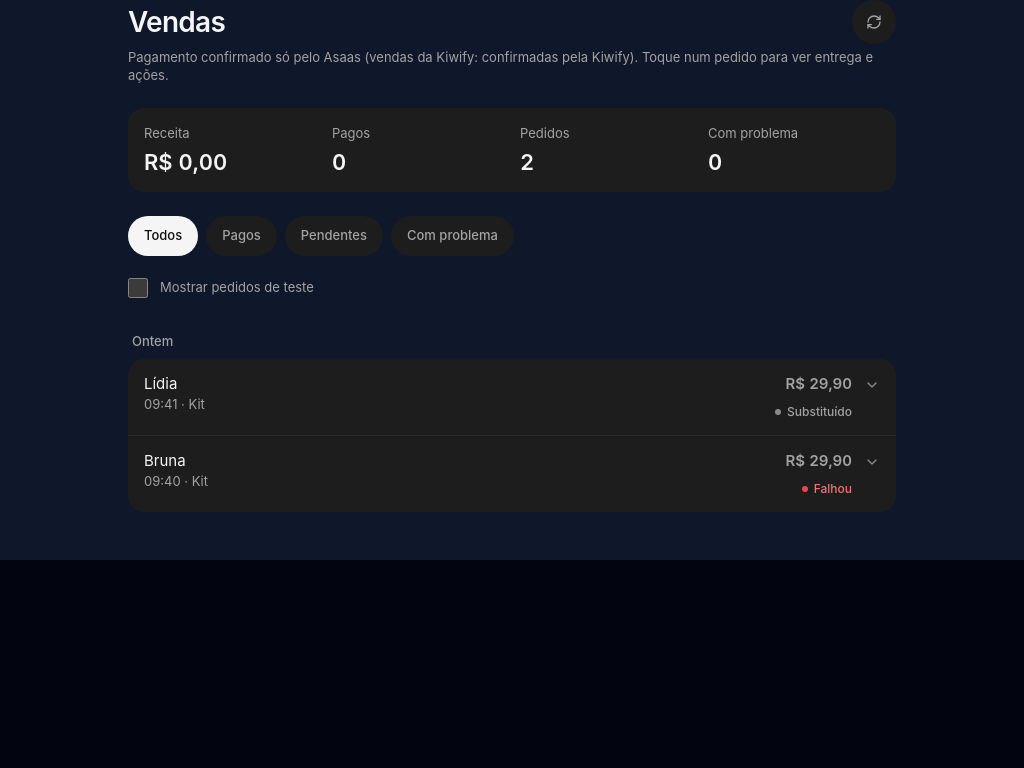
Scenario: NORQVA-0148 — Vendas › mostra "Substituído" e o motivo da falha no detalhe
Expected: the text "Lídia" is shown, [144,374,177,393]
What coordinates should you click on to do the following:
click the button "Lídia 09:41 · Kit R$ 29,90 Substituído"
I would click on:
 (161, 384)
Its box is [128,359,896,435].
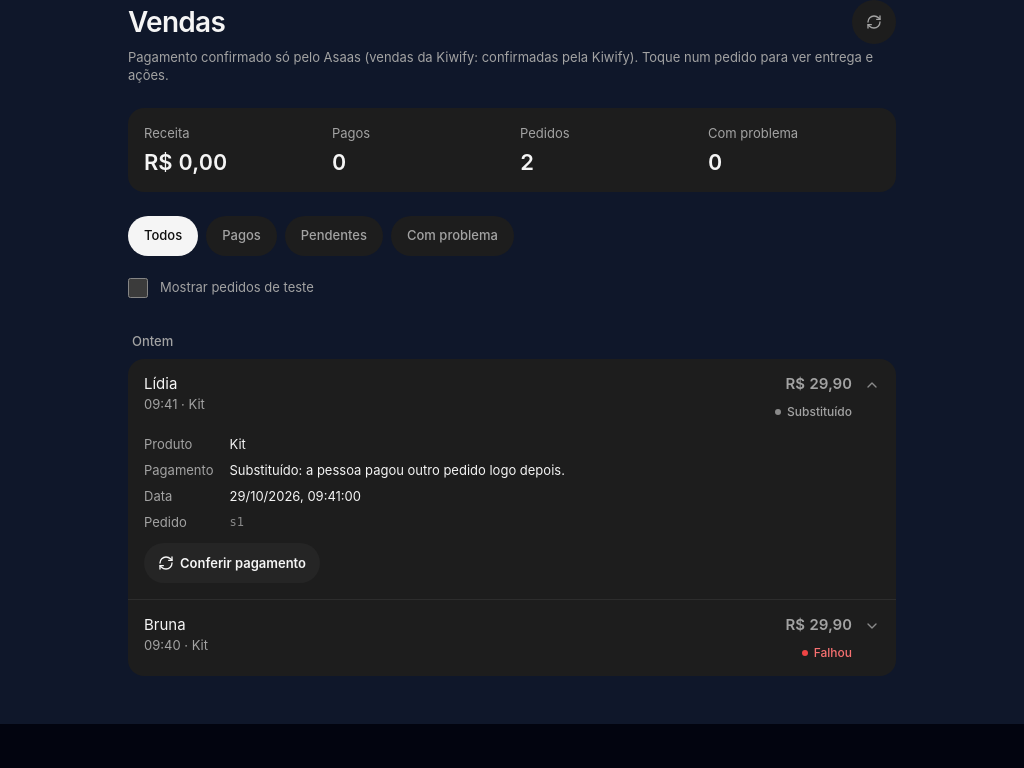
Now the text with test id "sales-superseded" shows "pagou outro pedido", box [230,462,565,478]
What coordinates should you click on to do the following:
click the button "Bruna 09:40 · Kit R$ 29,90 Falhou"
I would click on:
 (165, 624)
Its box is [128,600,896,676].
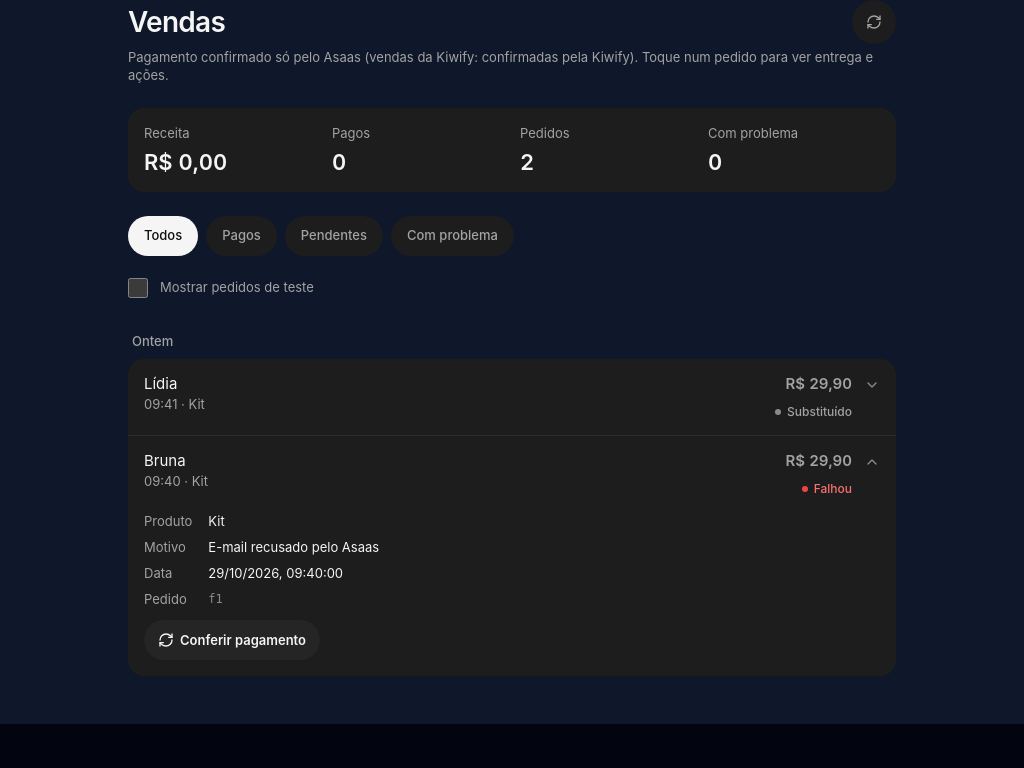
Now the text with test id "sales-failure" reads "E-mail recusado pelo Asaas", box [208,539,379,555]
